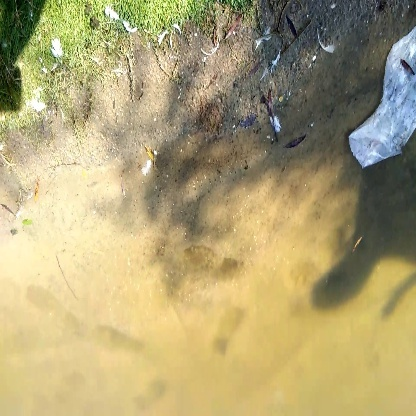plastic-bag: (348, 26, 416, 168)
